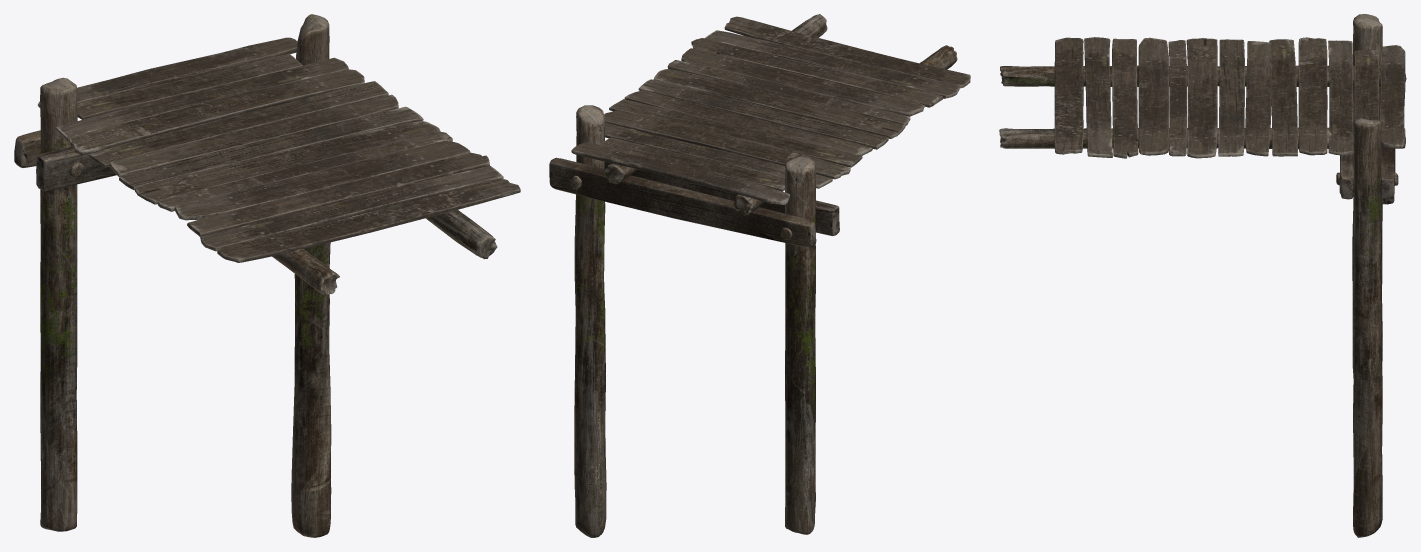
The picture shows the model from 3 angles, left to right: view 1: azimuth 30°, elevation 25°; view 2: azimuth 150°, elevation 25°; view 3: azimuth 270°, elevation 25°; orthographic projection. The views are drawn at different scales.
Visible parts, largest first — view 1: modular_wooden_pier_section_02; view 2: modular_wooden_pier_section_02; view 3: modular_wooden_pier_section_02.
Boxes of the visible parts, left/top/right/bottom form: modular_wooden_pier_section_02: left=14, top=14, right=520, bottom=537; modular_wooden_pier_section_02: left=549, top=14, right=970, bottom=537; modular_wooden_pier_section_02: left=999, top=14, right=1406, bottom=537.
Size of the model in its own units: 2.51 by 3.84 by 3.39.
Materials: 2 (2 with a texture image).
